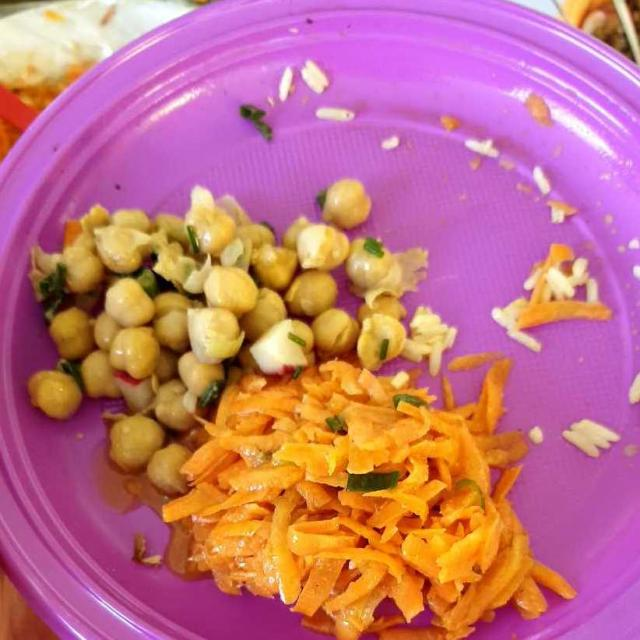carrot-raw: (162, 344, 586, 637)
chickpeas: (39, 180, 442, 500)
